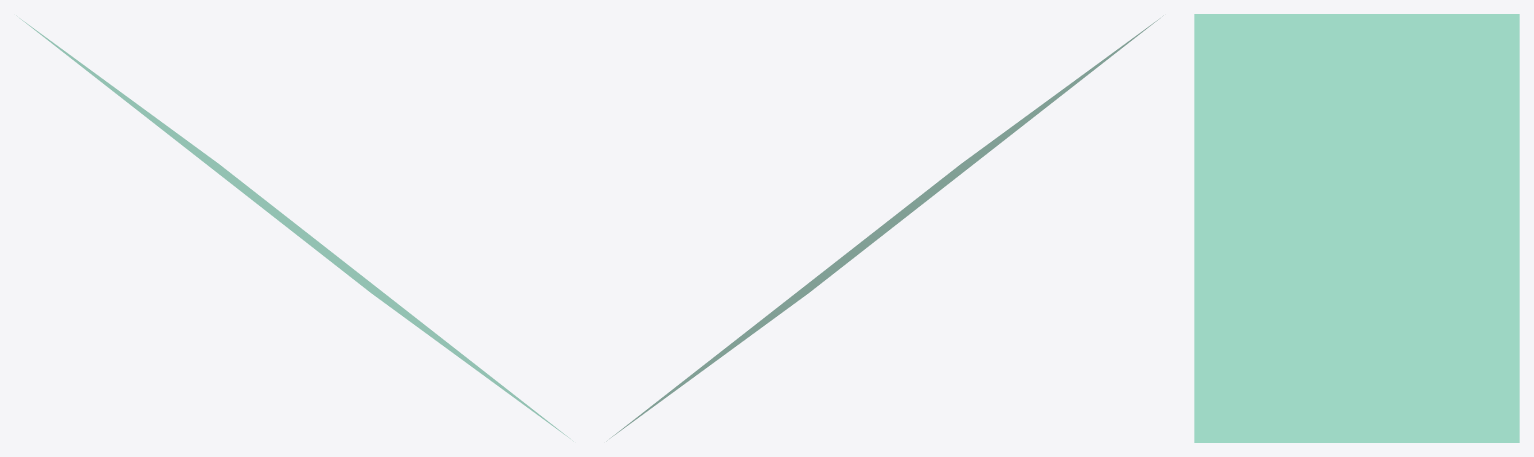
File: plano_topo.glb
The picture shows the model from 3 angles, left to right: view 1: azimuth 30°, elevation 25°; view 2: azimuth 150°, elevation 25°; view 3: azimuth 270°, elevation 25°; orthographic projection. The views are drawn at different scales.
Size of the model in its own units: 7.14 by 7 by 7.1.
